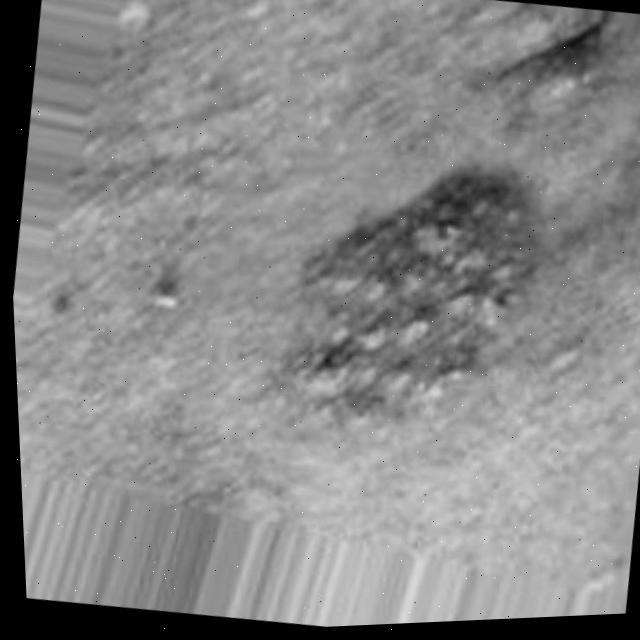Shingles: (275, 152, 534, 456), (519, 23, 615, 95)
